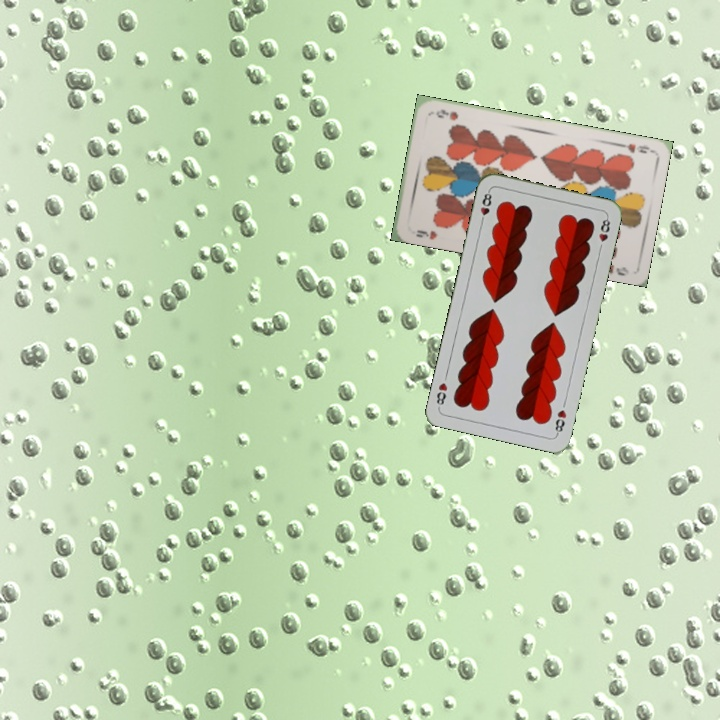H8: (476, 186, 494, 227), (551, 405, 569, 437)
H9: (615, 139, 655, 156), (412, 226, 439, 242)
